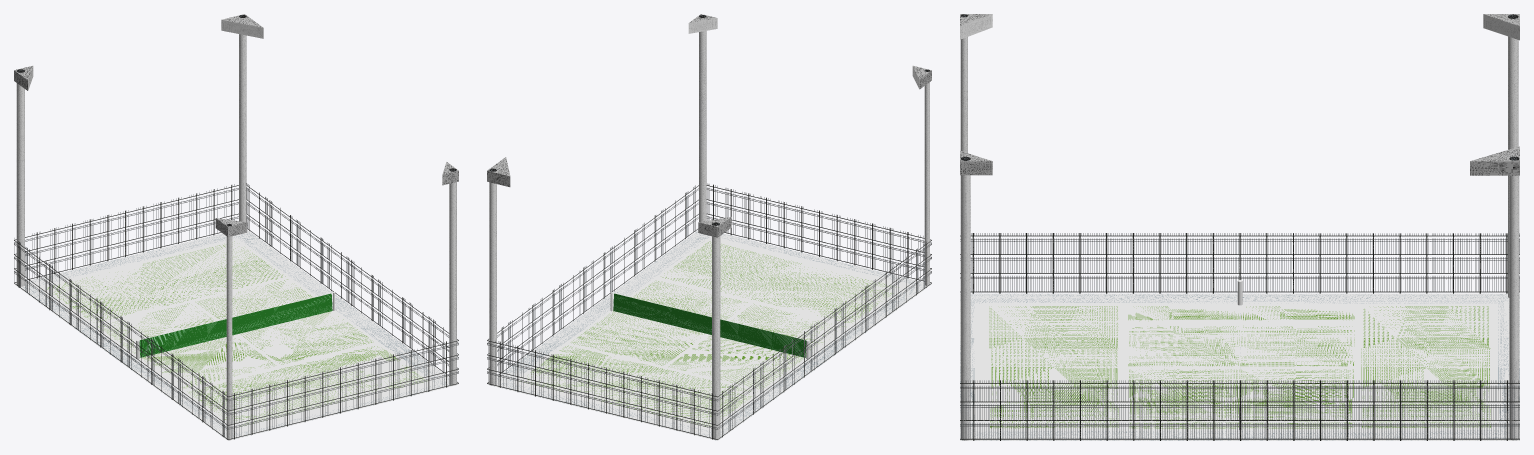
Rendered from tenniscourt.fbx.
3 renders of one model, left to right at view 1: azimuth 30°, elevation 25°; view 2: azimuth 150°, elevation 25°; view 3: azimuth 270°, elevation 25°, orthographic. The views are drawn at different scales.
Visible parts, largest first — view 1: tennis_court1; view 2: tennis_court1; view 3: tennis_court1.
Boxes of the visible parts, box(x1,y1,x2,y2) form: tennis_court1: box(14, 14, 458, 440); tennis_court1: box(487, 14, 931, 440); tennis_court1: box(960, 14, 1519, 440).
Size of the model in its own units: 14133 by 12517 by 22702.
